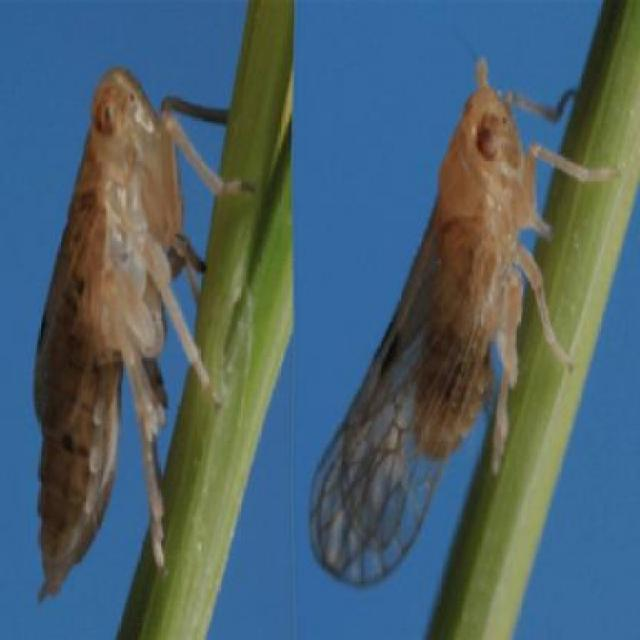brown-planthopper: (306, 59, 551, 588), (30, 65, 204, 602)
